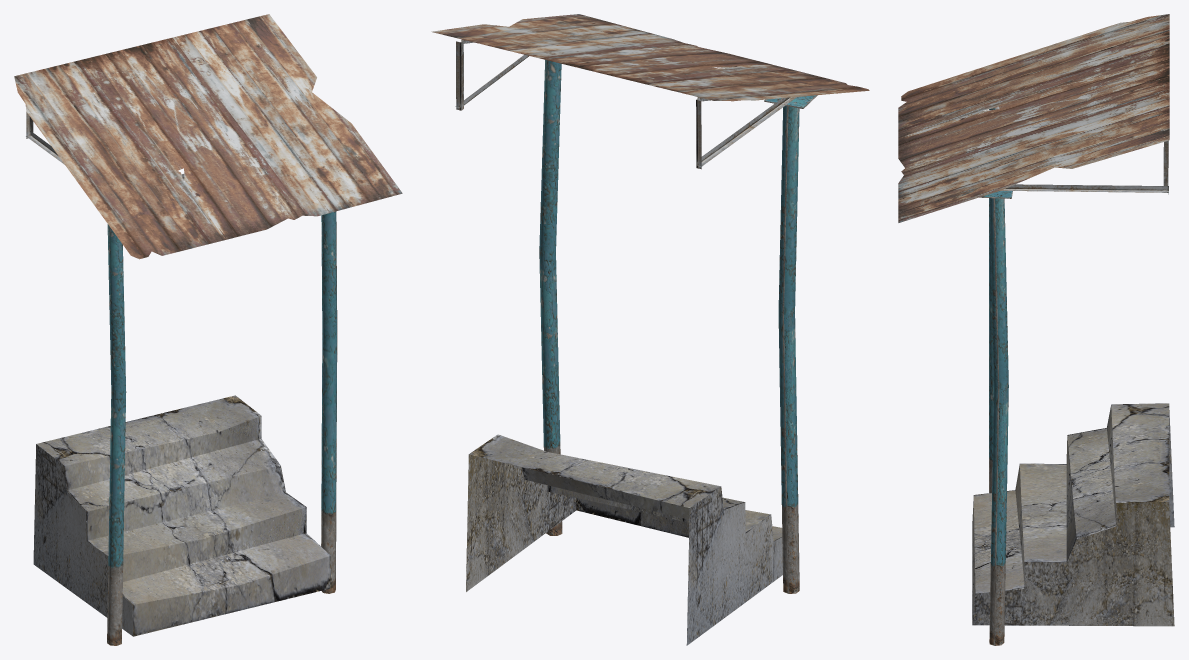
File: Porch_02.FBX
3 views of the same model, side by side, from view 1: azimuth 30°, elevation 25°; view 2: azimuth 150°, elevation 25°; view 3: azimuth 270°, elevation 25° (orthographic). The views are drawn at different scales.
Visible parts, largest first — view 1: Porch_02_1, Porch_02_2; view 2: Porch_02_1, Porch_02_2; view 3: Porch_02_1, Porch_02_2.
Boxes of the visible parts, x1,y1,x2,y2 form: Porch_02_1: [14, 14, 402, 645]; Porch_02_2: [33, 395, 332, 636]; Porch_02_1: [431, 14, 869, 593]; Porch_02_2: [466, 434, 782, 645]; Porch_02_1: [898, 14, 1169, 645]; Porch_02_2: [972, 403, 1174, 626].
Size of the model in its own units: 209 by 185 by 380.
Materials: 3 (3 with a texture image).
